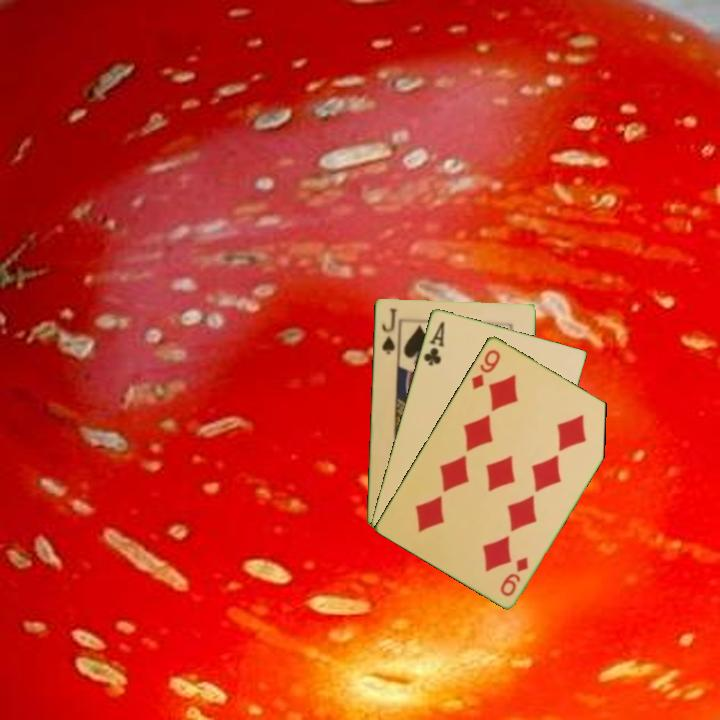9d: (468, 345, 503, 392), (496, 553, 531, 599)
Ac: (420, 317, 447, 368)
Js: (378, 305, 400, 357)
